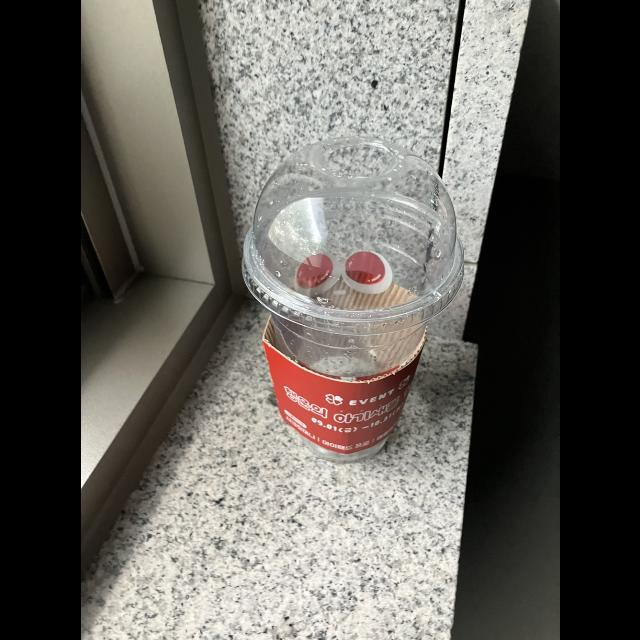plastic_cup: (239, 134, 467, 462)
plastic_cup_lid: (234, 132, 466, 348)
